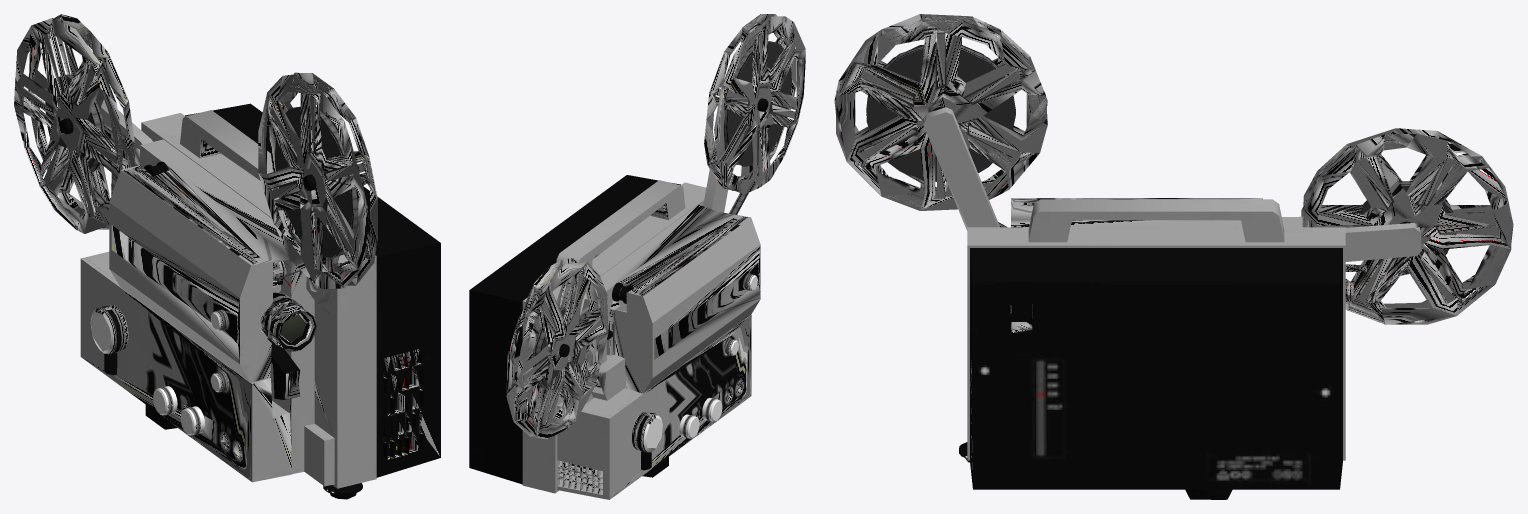
File: eumig_film_projector.glb
The picture shows the model from 3 angles, left to right: view 1: azimuth 30°, elevation 25°; view 2: azimuth 150°, elevation 25°; view 3: azimuth 270°, elevation 25°; orthographic projection. The views are drawn at different scales.
Parts seen in each view (by area): view 1: #VPL0002_Body, #VPL0002_Reel.001, #VPL0002_Reel.002, #VPL0002_Film, #VPL0002_Main_Switch, #VPL0002_Reel_Arm.002, #VPL0002_Volume_Control, #VPL0002_Mix_Control; view 2: #VPL0002_Body, #VPL0002_Reel.001, #VPL0002_Reel.002, #VPL0002_Film, #VPL0002_Main_Switch, #VPL0002_Reel_Arm.001, #VPL0002_Mix_Control, #VPL0002_Volume_Control; view 3: #VPL0002_Body, #VPL0002_Reel.002, #VPL0002_Reel.001, #VPL0002_Film, #VPL0002_Reel_Arm.001, #VPL0002_Reel_Arm.002.
Boxes of the visible parts, box(x1,y1,x2,y2) form: #VPL0002_Body: box(80, 103, 440, 499); #VPL0002_Reel.001: box(14, 14, 134, 233); #VPL0002_Reel.002: box(258, 72, 377, 289); #VPL0002_Film: box(45, 74, 358, 280); #VPL0002_Main_Switch: box(90, 305, 128, 375); #VPL0002_Reel_Arm.002: box(100, 99, 152, 166); #VPL0002_Volume_Control: box(153, 386, 177, 415); #VPL0002_Mix_Control: box(180, 406, 205, 435); #VPL0002_Body: box(469, 175, 760, 499); #VPL0002_Reel.001: box(506, 258, 608, 439); #VPL0002_Reel.002: box(704, 14, 805, 194); #VPL0002_Film: box(533, 41, 791, 390); #VPL0002_Main_Switch: box(631, 412, 662, 470); #VPL0002_Reel_Arm.001: box(703, 140, 727, 212); #VPL0002_Mix_Control: box(702, 398, 722, 421); #VPL0002_Volume_Control: box(679, 414, 699, 438); #VPL0002_Body: box(959, 198, 1366, 499); #VPL0002_Reel.002: box(834, 14, 1047, 210); #VPL0002_Reel.001: box(1301, 128, 1513, 324); #VPL0002_Film: box(866, 43, 1454, 285); #VPL0002_Reel_Arm.001: box(923, 107, 999, 230); #VPL0002_Reel_Arm.002: box(1345, 223, 1421, 261).
Size of the model in its own units: 0.1757 by 0.3881 by 0.564.
3 materials, 2 textured.
